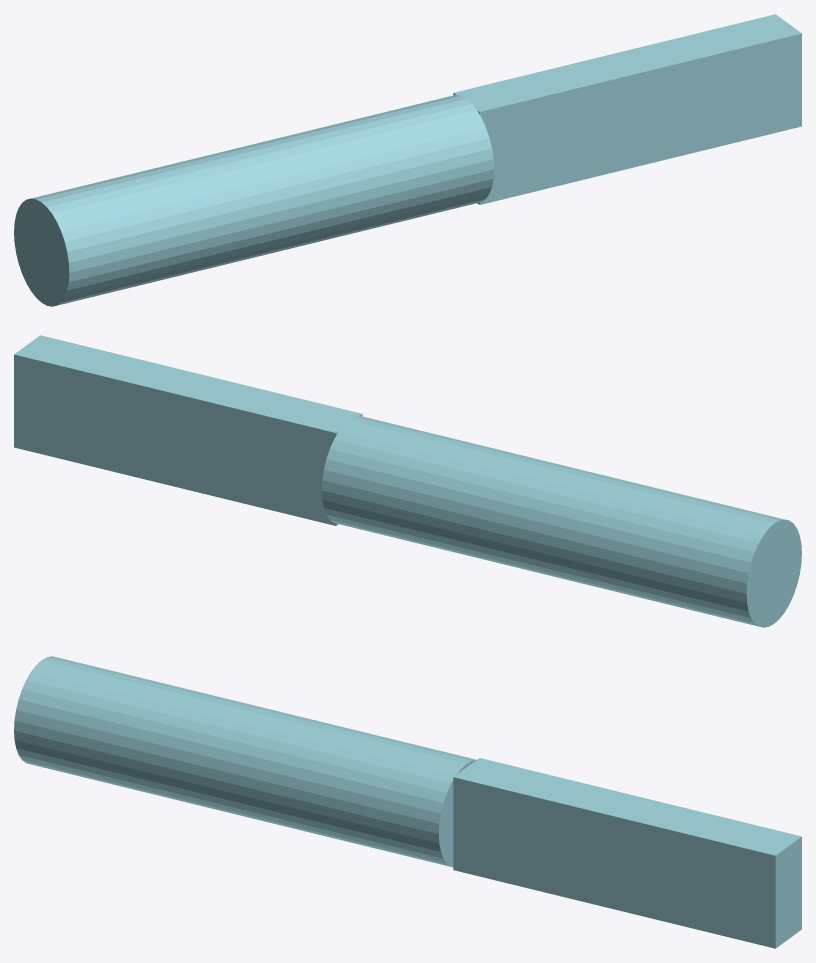
File: cylinder_spatula_v6006.obj
The picture shows the model from 3 angles, top to bottom: view 1: azimuth 30°, elevation 25°; view 2: azimuth 150°, elevation 25°; view 3: azimuth 330°, elevation 25°; orthographic projection.
Size of the model in its own units: 0.2547 by 0.0327 by 0.0327.
Materials: 1 (1 with a texture image).
